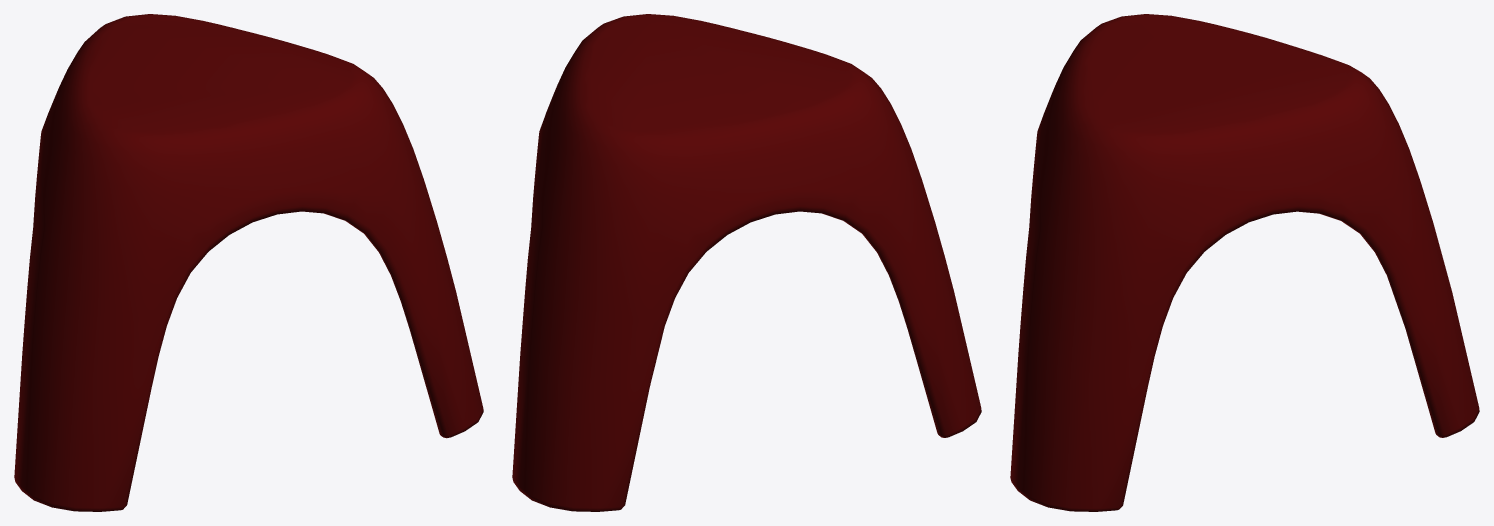
Rendered from Stool.FBX.
3 views of the same model, side by side, from view 1: azimuth 30°, elevation 25°; view 2: azimuth 150°, elevation 25°; view 3: azimuth 270°, elevation 25° (orthographic).
Visible parts, largest first — view 1: AI37_008_chair_006; view 2: AI37_008_chair_006; view 3: AI37_008_chair_006.
Part boxes in pixels (<box>): AI37_008_chair_006: <box>14,14,483,511</box>; AI37_008_chair_006: <box>512,14,981,511</box>; AI37_008_chair_006: <box>1010,14,1479,511</box>.
Size of the model in its own units: 42.2 by 30.86 by 39.23.
